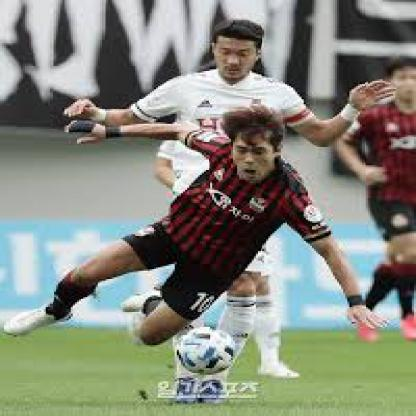Fall_Down: (1, 103, 396, 349)
